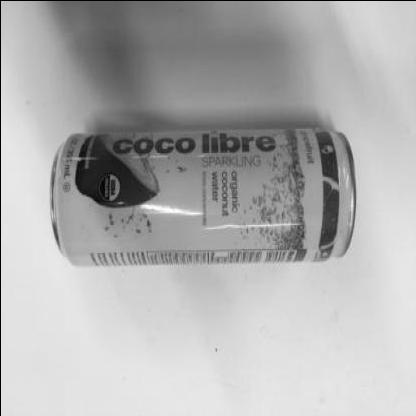alumunium_can: (43, 117, 357, 271)
